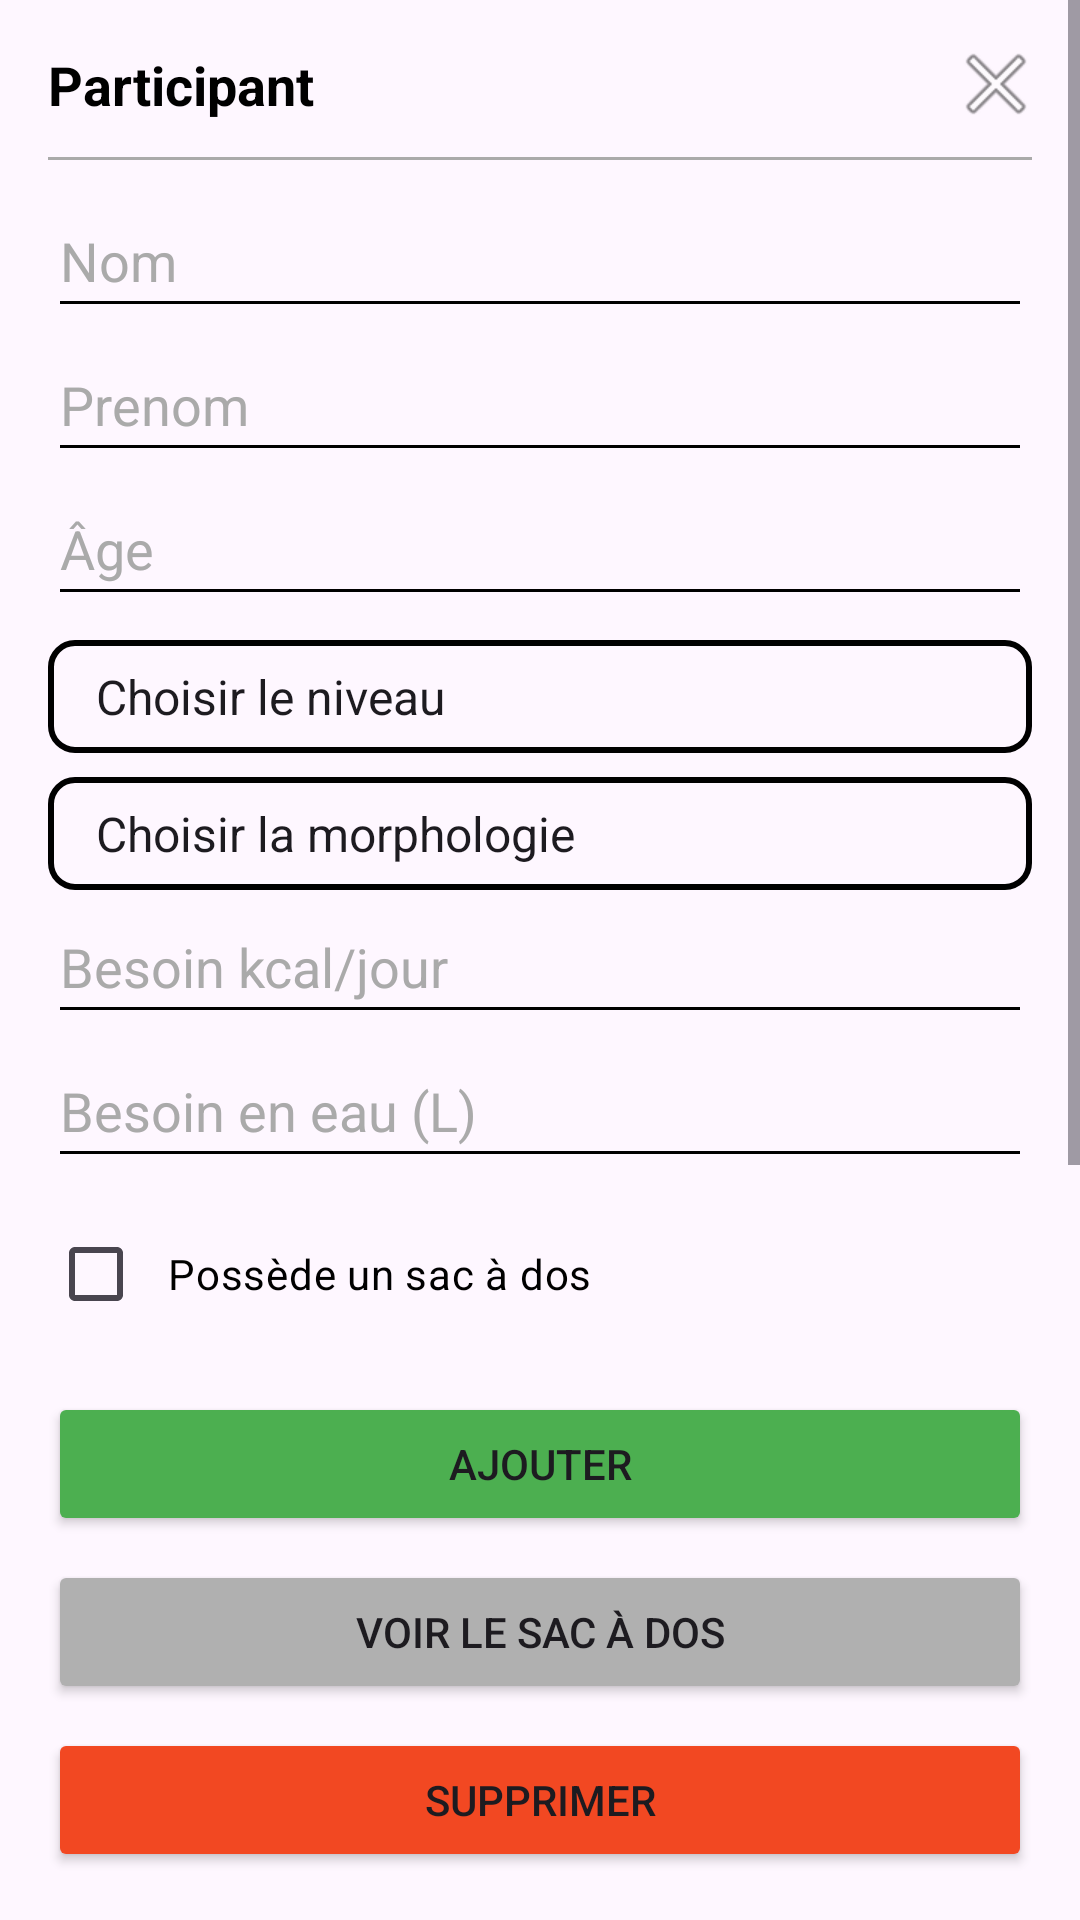

Named icons in this screenshot (1080 x 1920) and their bounding boxes, (x1, y1, x2, y2):
Fermer: (966, 54, 1026, 114)
